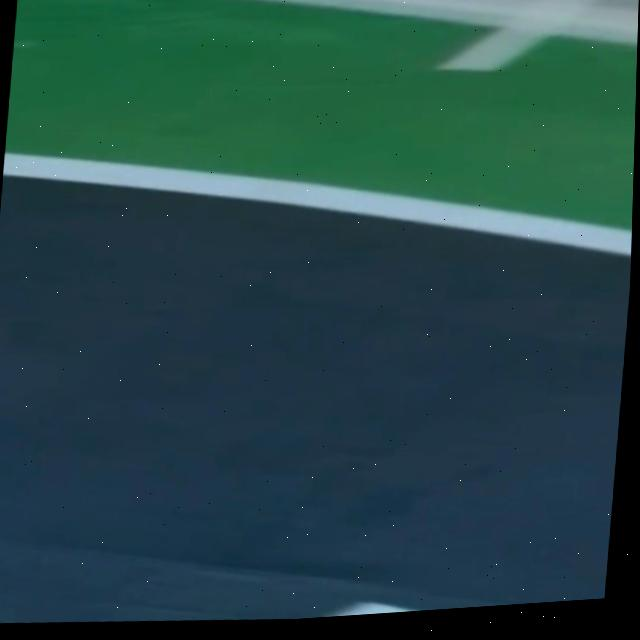center: (330, 603, 411, 617)
right: (2, 154, 632, 257)
